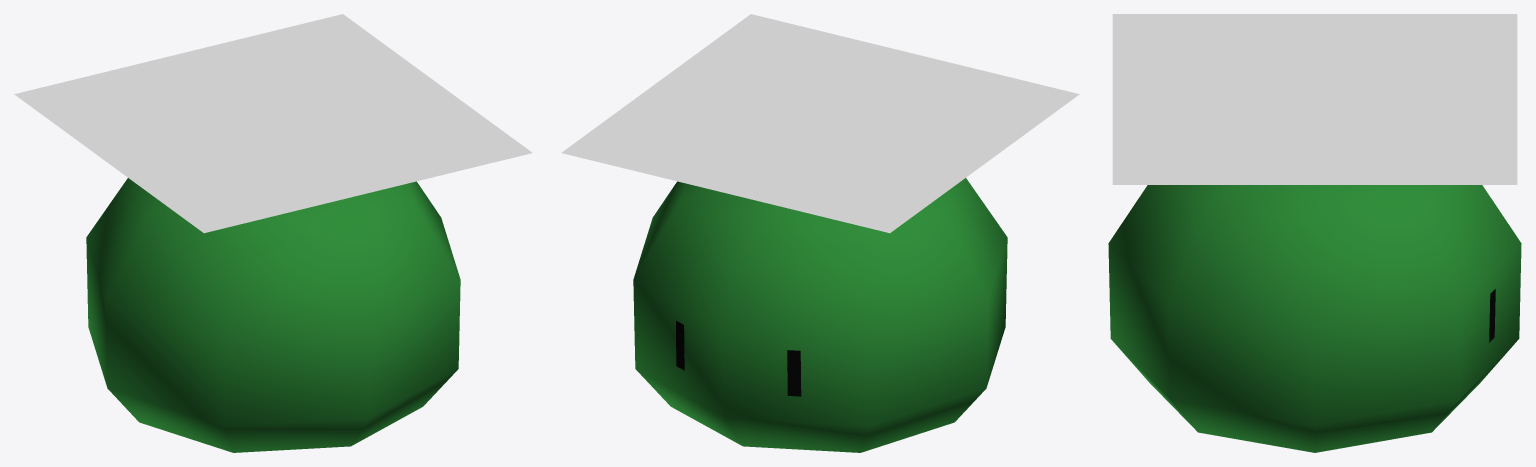
Rendered from slime.glb.
3 renders of one model, left to right at view 1: azimuth 30°, elevation 25°; view 2: azimuth 150°, elevation 25°; view 3: azimuth 270°, elevation 25°, orthographic. The views are drawn at different scales.
Parts seen in each view (by area): view 1: Slime, bounceTrigger; view 2: Slime, bounceTrigger, Eyes; view 3: Slime, bounceTrigger.
Boxes of the visible parts, x1=… form: Slime: x1=86, y1=178, x2=460, y2=452; bounceTrigger: x1=14, y1=14, x2=532, y2=233; Slime: x1=633, y1=178, x2=1007, y2=452; bounceTrigger: x1=561, y1=14, x2=1079, y2=233; Eyes: x1=676, y1=320, x2=801, y2=396; Slime: x1=1108, y1=185, x2=1521, y2=452; bounceTrigger: x1=1112, y1=14, x2=1517, y2=184.
Bounding box in the file's own units: 1.83 × 1.38 × 1.83.
